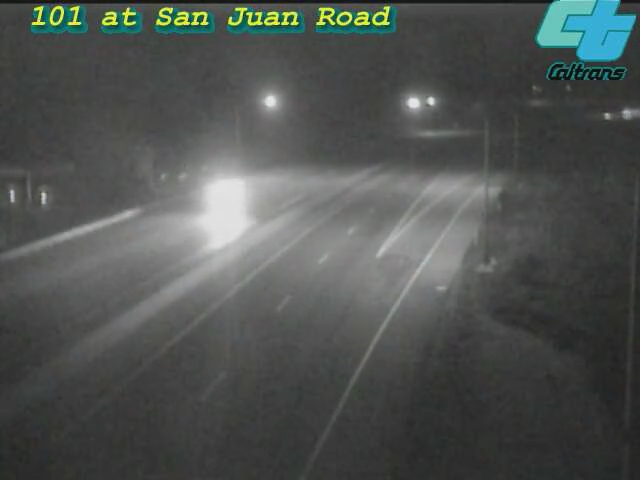vehicle: (176, 167, 256, 247), (603, 89, 640, 139)
